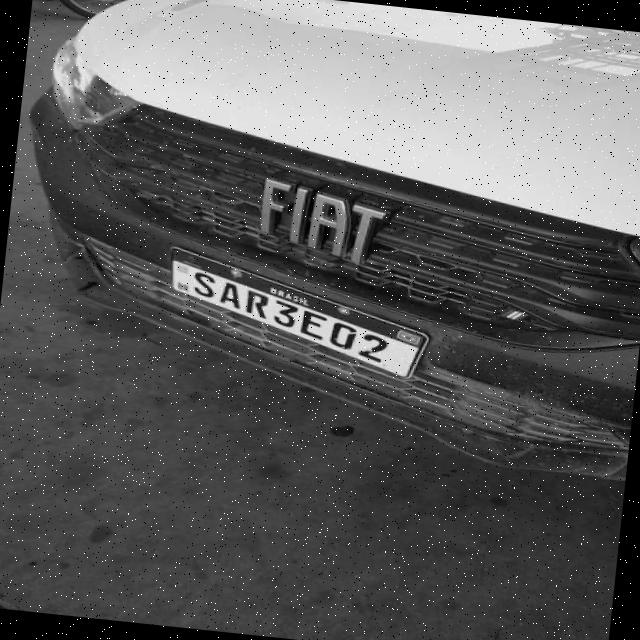placa_mercosul: (172, 250, 427, 376)
